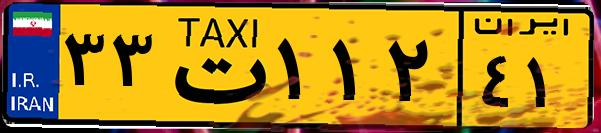1: (270, 28, 330, 110), (330, 28, 385, 110), (525, 38, 570, 115)
2: (385, 28, 445, 110)
3: (57, 26, 110, 100), (110, 28, 158, 98)
4: (475, 38, 525, 113)
ت: (158, 12, 270, 120)
